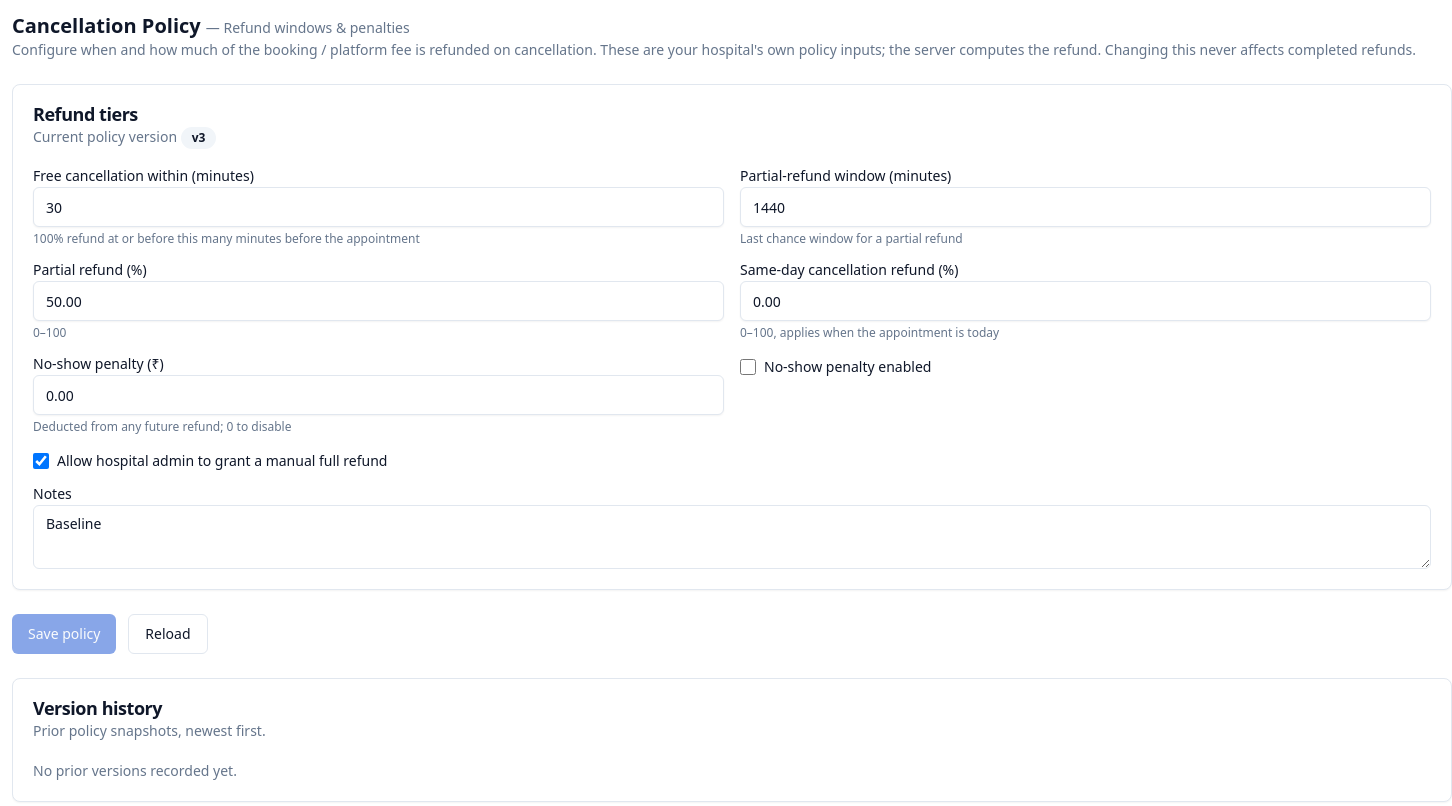
Test: saves with one stable idempotency key and only the changed fields
Replace the text in the field with test id "full-min" with "45" at (378, 207), box top-left (33, 187), bottom-right (724, 227)
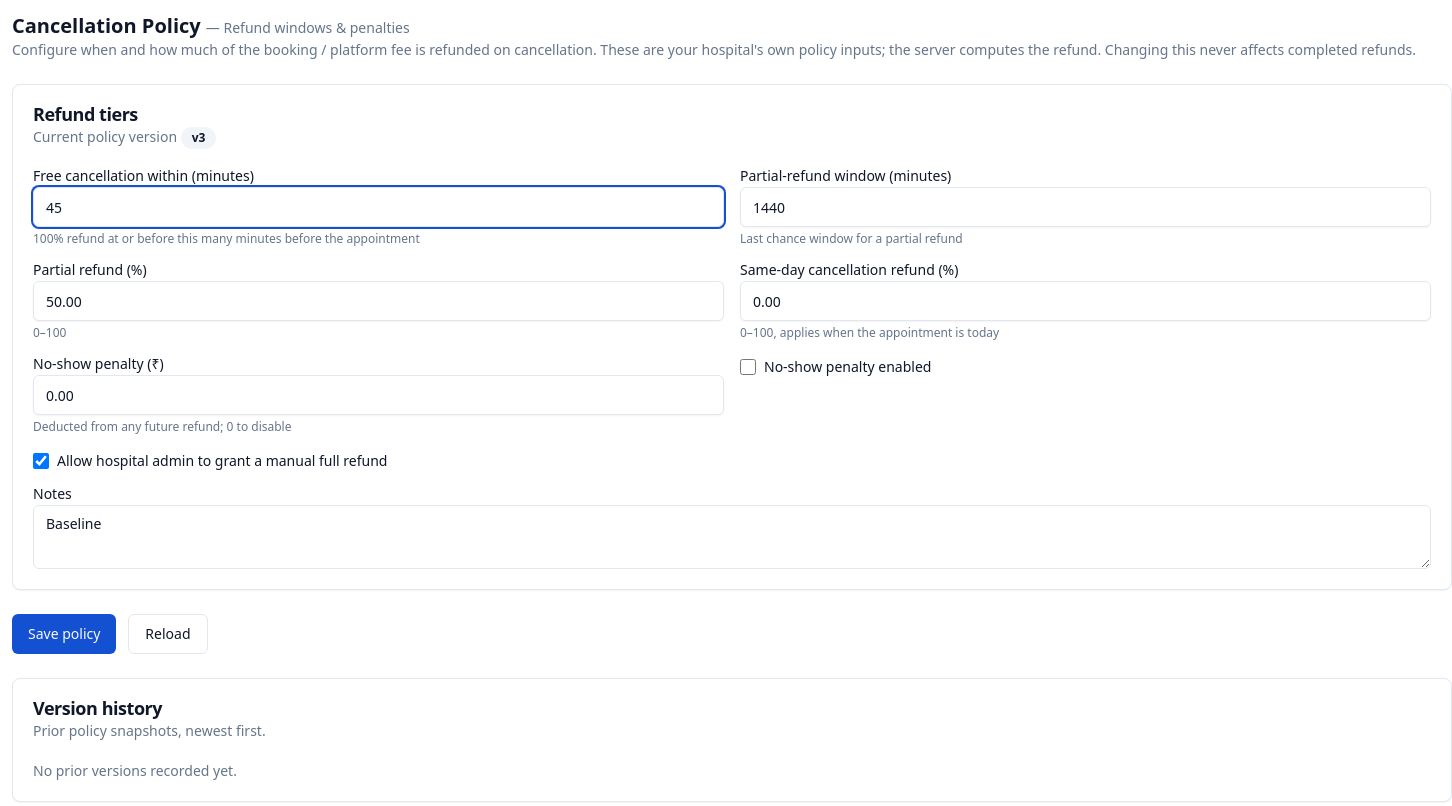
Click the button with test id "save-btn" at (64, 634), box top-left (12, 614), bottom-right (116, 654)
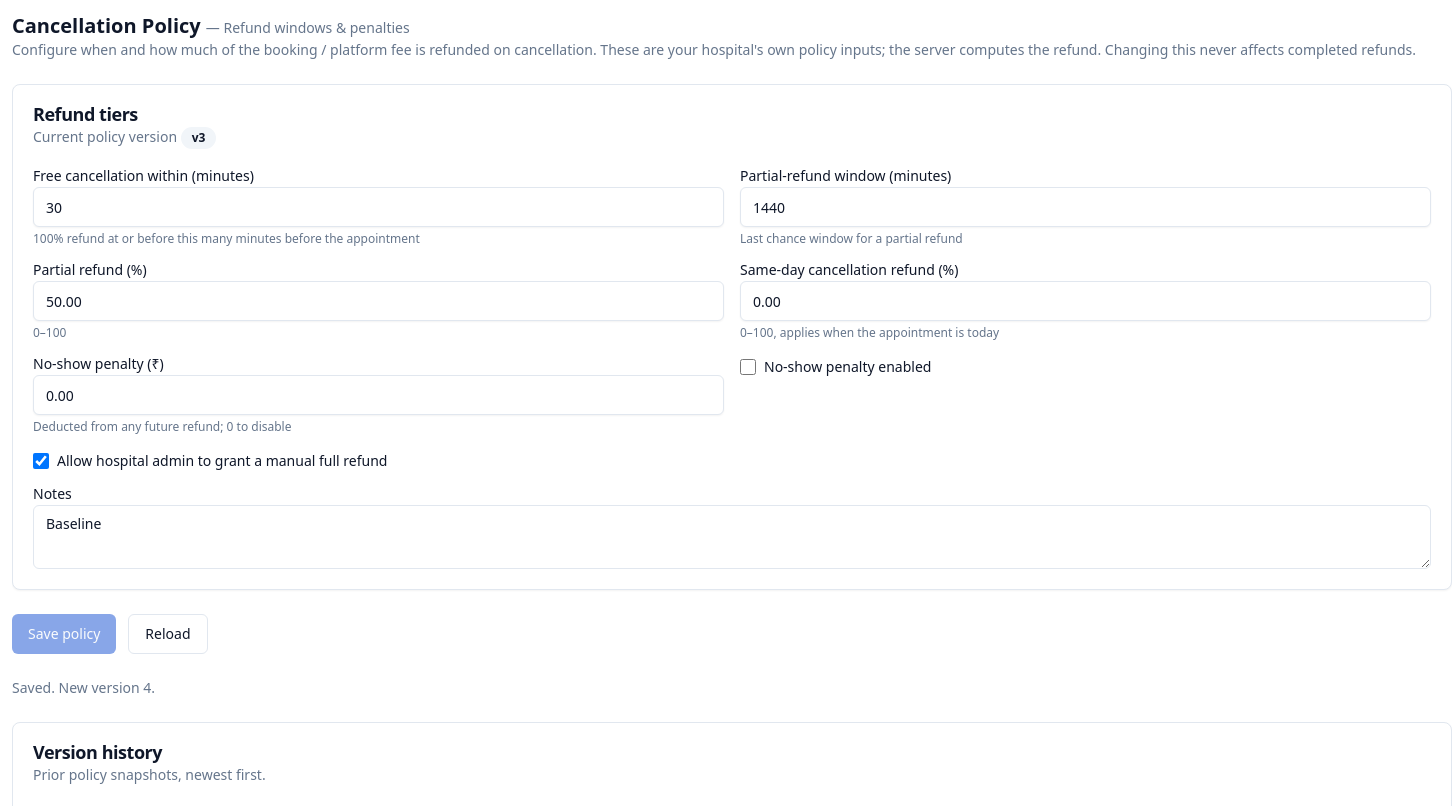
expect the text "Saved. New version 4." is shown: met, box top-left (12, 678), bottom-right (155, 697)
